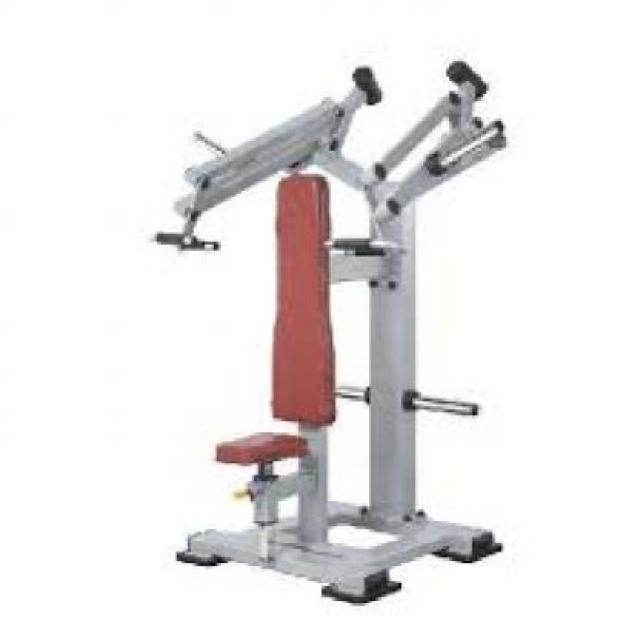shoulder press machine: (132, 48, 518, 620)
